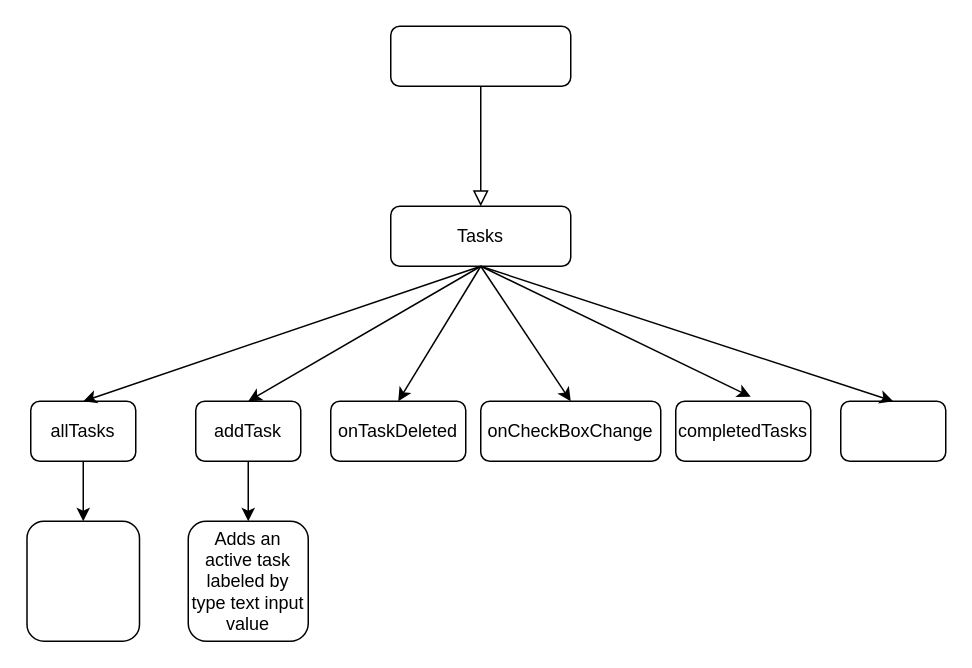
Image size: 972x668. Some labels were removed from this diagram. The centre of each missing label's shape, as x and y in pixels:
activeTasks: point (892, 430)
App: point (480, 55)
Renders all active and nonactive tasks: point (83, 580)
